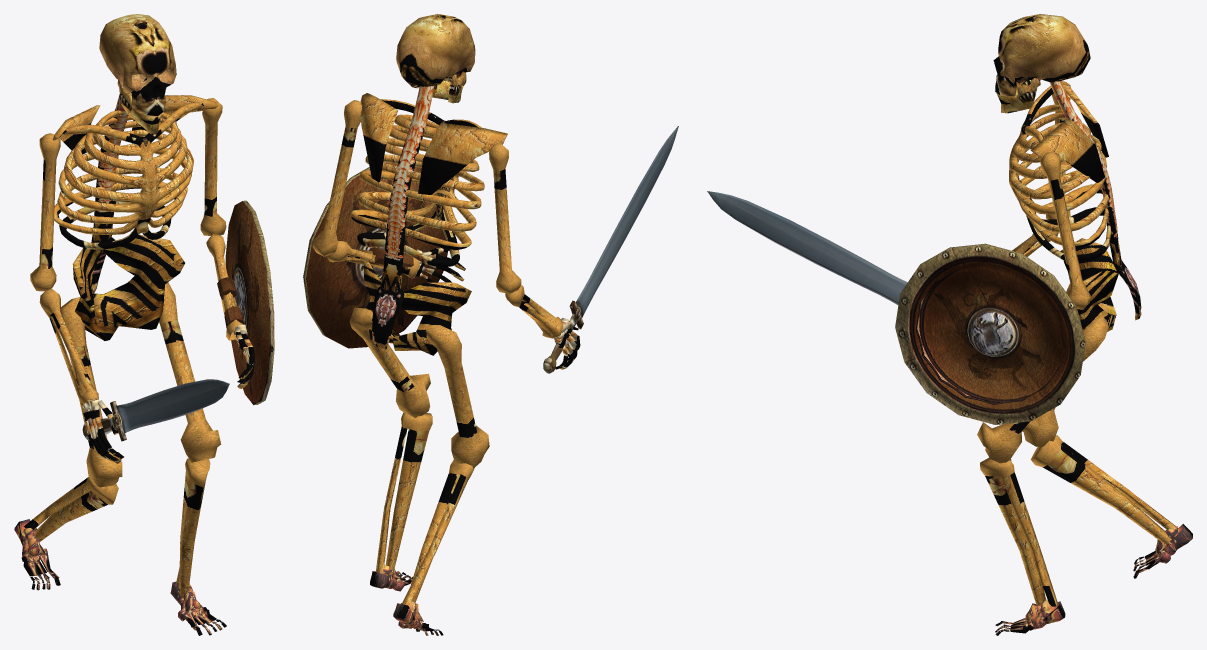
The model's file is Skeleton_000007.obj.
The picture shows the model from 3 angles, left to right: view 1: azimuth 30°, elevation 25°; view 2: azimuth 150°, elevation 25°; view 3: azimuth 270°, elevation 25°; orthographic projection. The views are drawn at different scales.
Parts seen in each view (by area): view 1: Costillar, Coxis, Shield_Shield.001, Femur, Skull, Tibia, Humero, Sword, Radio, Feet, Hands, Omoplato (+1 smaller); view 2: Costillar, Shield_Shield.001, Tibia, Femur, Omoplato, Skull, Humero, Coxis, Sword, Radio, Hands, Feet (+1 smaller); view 3: Shield_Shield.001, Costillar, Tibia, Skull, Sword, Femur, Omoplato, Humero, Coxis, Feet, Mandibula.
Part boxes in pixels (<box>): Costillar: <box>54,94,203,293</box>; Coxis: <box>72,234,184,340</box>; Shield_Shield.001: <box>217,200,274,405</box>; Femur: <box>61,282,221,487</box>; Skull: <box>99,14,176,116</box>; Tibia: <box>23,458,210,597</box>; Humero: <box>30,98,226,291</box>; Sword: <box>82,379,229,441</box>; Radio: <box>39,234,242,404</box>; Feet: <box>14,519,226,635</box>; Hands: <box>82,324,254,463</box>; Omoplato: <box>52,95,218,154</box>; Costillar: <box>350,85,484,350</box>; Shield_Shield.001: <box>303,161,447,348</box>; Tibia: <box>375,412,474,605</box>; Femur: <box>349,307,489,468</box>; Omoplato: <box>360,93,507,194</box>; Skull: <box>396,14,475,88</box>; Humero: <box>312,100,521,293</box>; Coxis: <box>363,260,471,355</box>; Sword: <box>543,126,678,373</box>; Radio: <box>327,241,563,338</box>; Hands: <box>415,247,580,369</box>; Feet: <box>370,565,443,635</box>; Shield_Shield.001: <box>895,243,1085,424</box>; Costillar: <box>1009,81,1141,320</box>; Tibia: <box>980,435,1178,606</box>; Skull: <box>993,14,1090,96</box>; Sword: <box>707,191,907,304</box>; Femur: <box>977,316,1108,463</box>; Omoplato: <box>1030,81,1108,182</box>; Humero: <box>1040,81,1091,309</box>; Coxis: <box>1060,238,1118,331</box>; Feet: <box>995,524,1192,635</box>; Mandibula: <box>996,77,1040,113</box>.
Size of the model in its own units: 3.06 by 8.46 by 6.3.
Materials: 5 (5 with a texture image).
